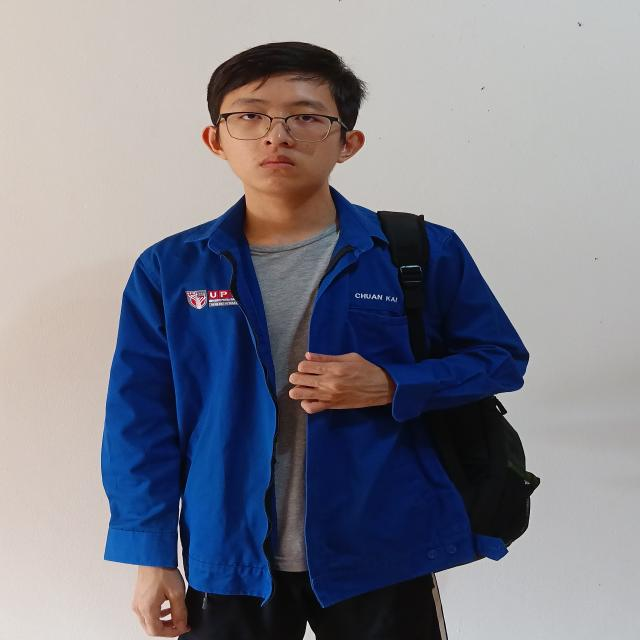person_with_labcoat: (101, 42, 539, 640)
